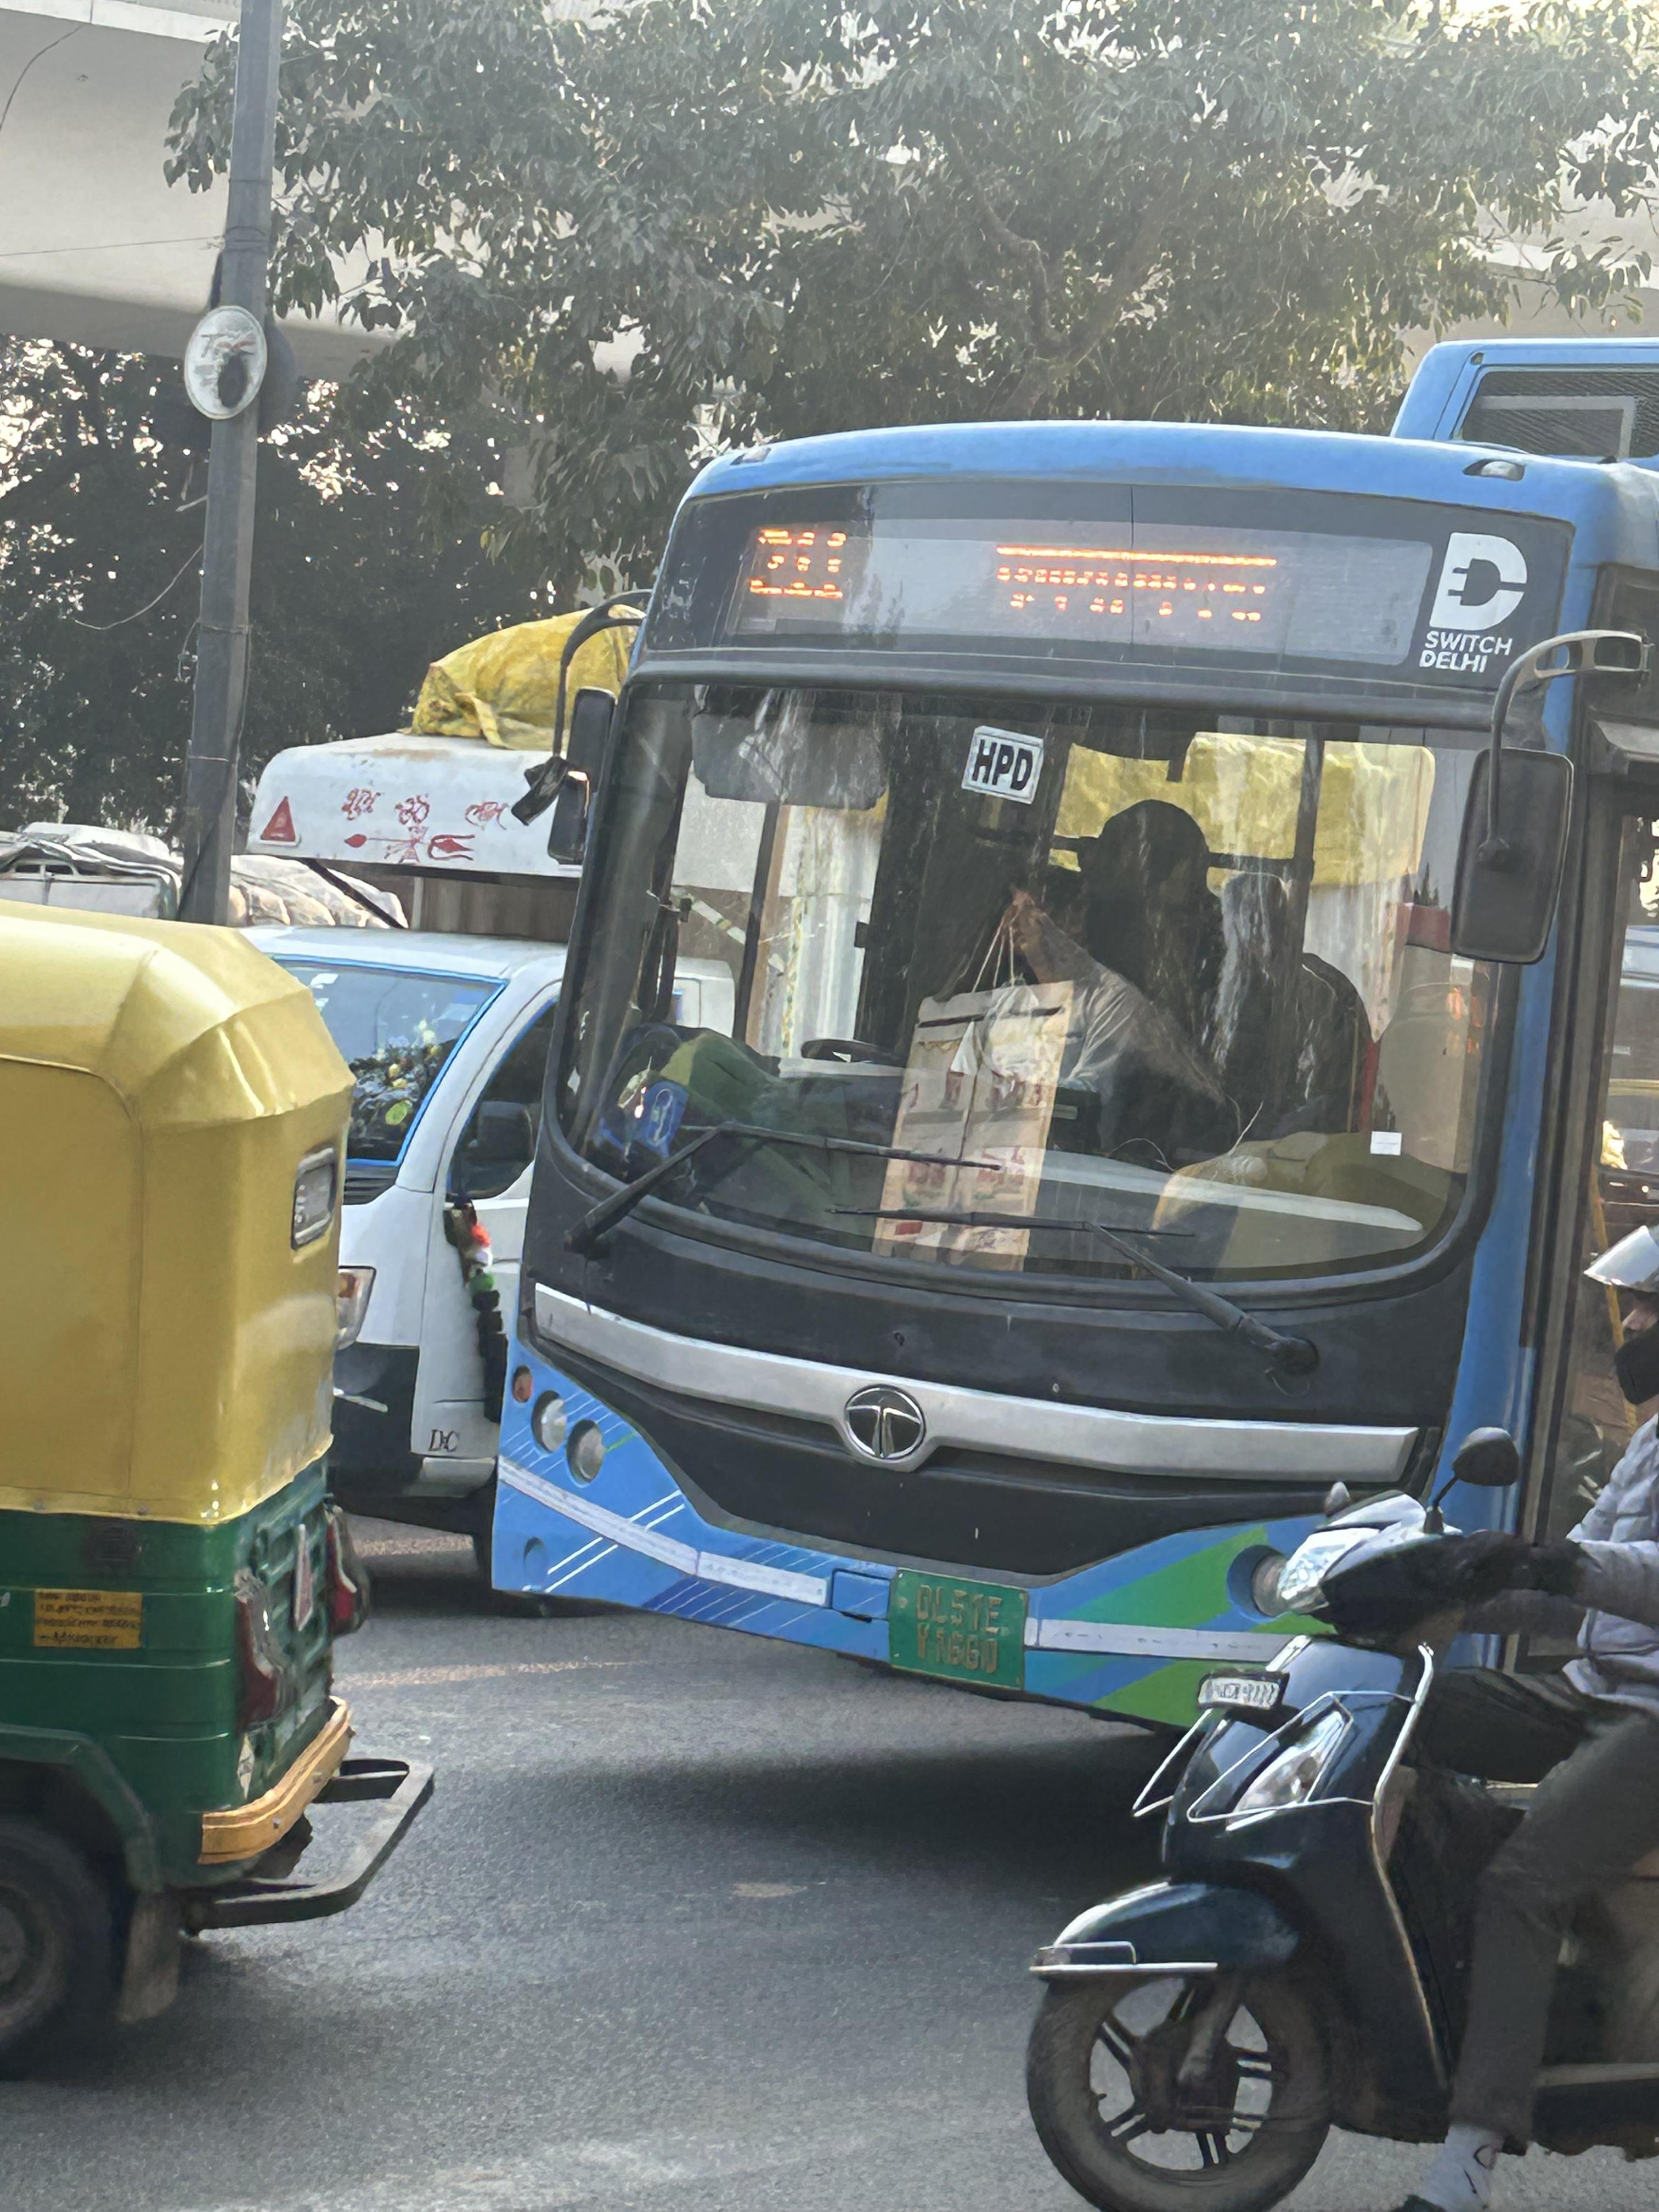Bus: (439, 395, 1659, 1761)
Display Board: (658, 455, 1602, 730)
License Plate: (867, 1558, 1059, 1734)
